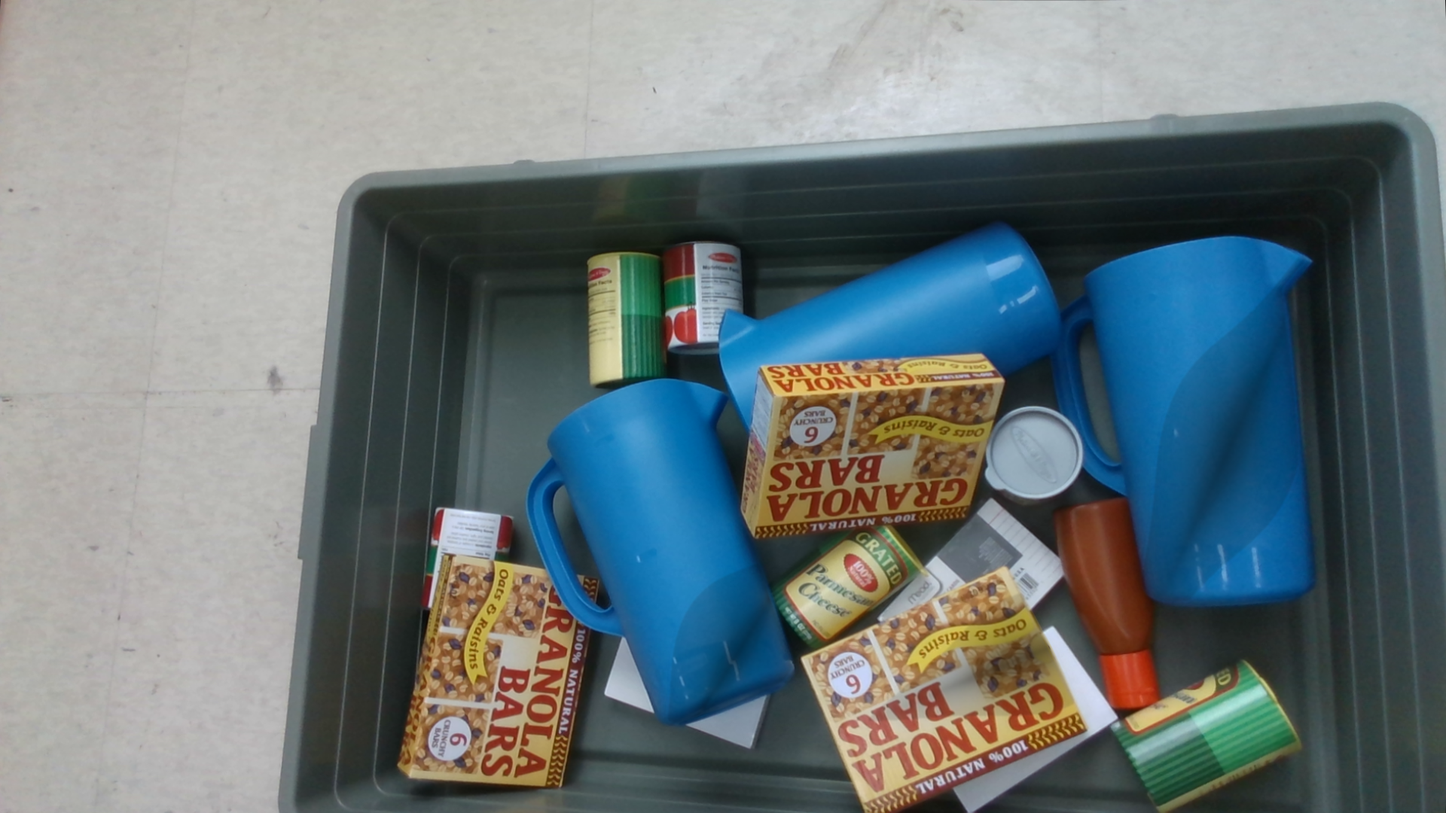defect: (1142, 257, 1306, 601), (868, 594, 1074, 721), (668, 564, 792, 723)
